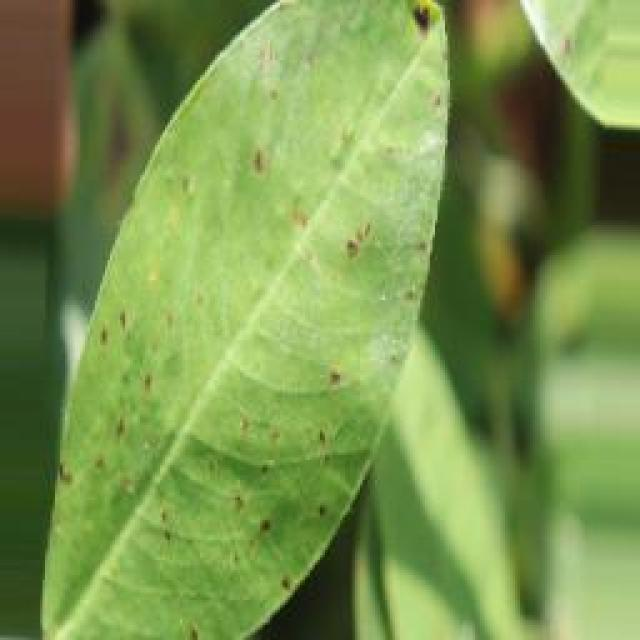Sigatoka: (24, 301, 162, 527), (170, 398, 341, 572), (243, 140, 313, 248), (302, 203, 387, 280), (380, 0, 445, 68), (299, 355, 368, 414)
